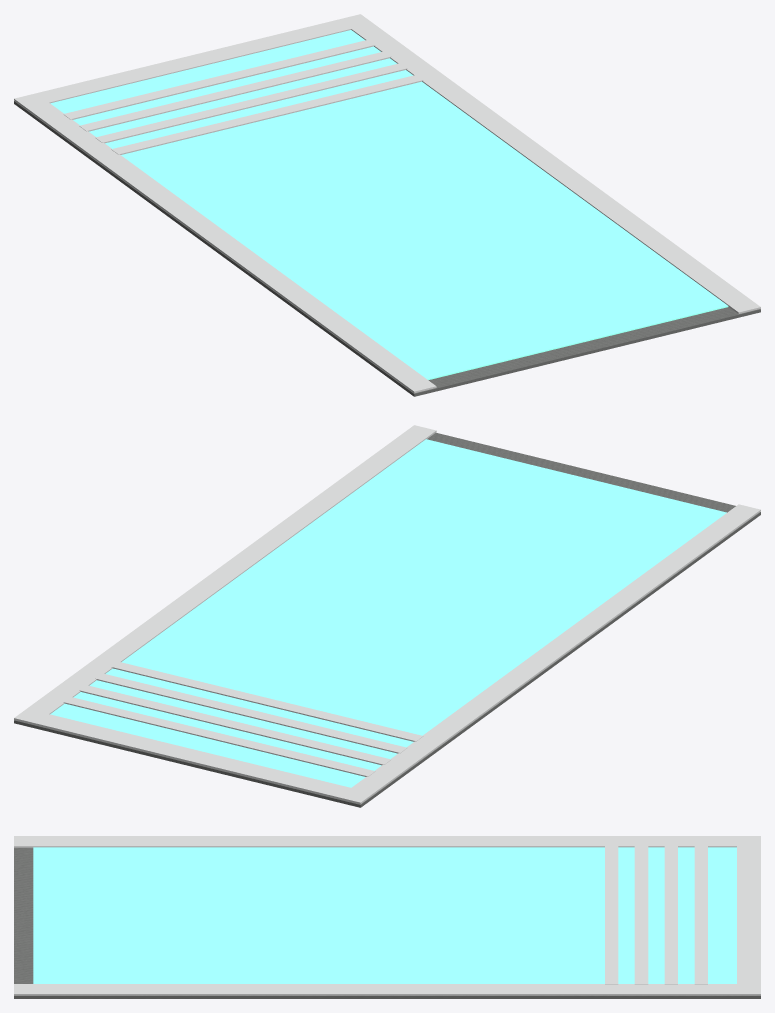
Rendered from car-park-and-road-vehicle-fleet-ev-bay-tile-18ecbab9__32549.glb.
The picture shows the model from 3 angles, top to bottom: view 1: azimuth 30°, elevation 25°; view 2: azimuth 150°, elevation 25°; view 3: azimuth 270°, elevation 25°; orthographic projection. The views are drawn at different scales.
Visible parts, largest first — view 1: ev-bay-tile; view 2: ev-bay-tile; view 3: ev-bay-tile.
Boxes of the visible parts, x1,y1,x2,y2 form: ev-bay-tile: (14,14,760,396); ev-bay-tile: (14,425,760,807); ev-bay-tile: (14,836,760,998).
Size of the model in its own units: 2.5 by 0.0381 by 5.
Materials: 3 (1 with a texture image).
